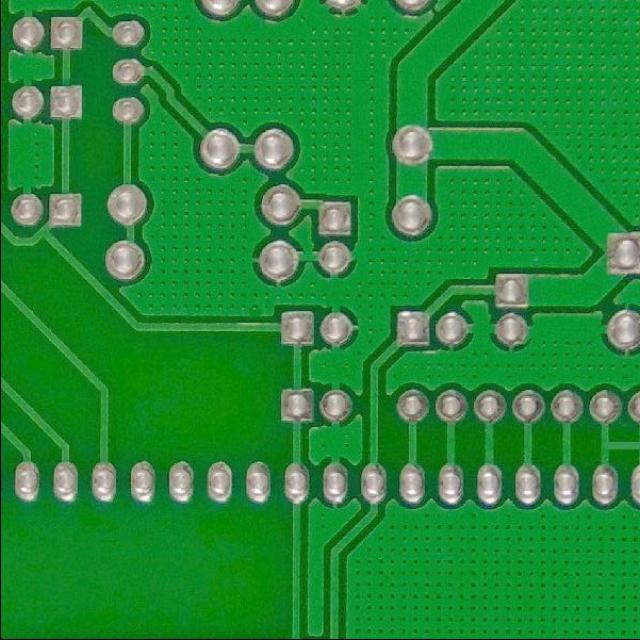Short_Circuit: (592, 429, 639, 461)
